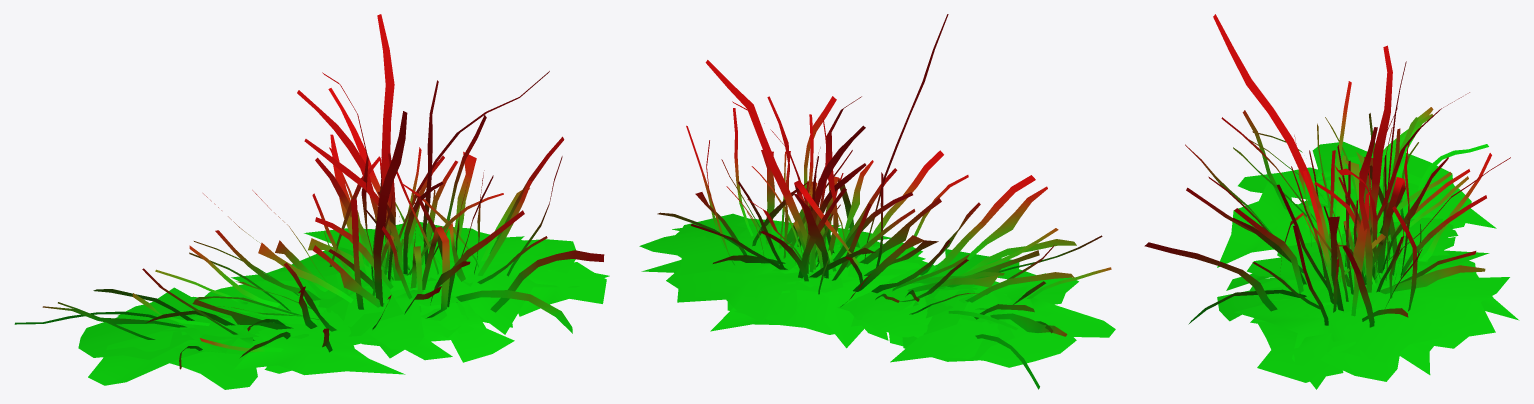
The model's file is Var8_LOD1.fbx.
3 views of the same model, side by side, from view 1: azimuth 30°, elevation 25°; view 2: azimuth 150°, elevation 25°; view 3: azimuth 270°, elevation 25° (orthographic). The views are drawn at different scales.
Visible parts, largest first — view 1: _9179_Var8_LOD1; view 2: _9179_Var8_LOD1; view 3: _9179_Var8_LOD1.
Boxes of the visible parts, <box> form: _9179_Var8_LOD1: <box>14,14,609,389</box>; _9179_Var8_LOD1: <box>639,14,1115,389</box>; _9179_Var8_LOD1: <box>1144,14,1519,389</box>.
Bounding box in the file's own units: 127 × 64.16 × 85.41.
